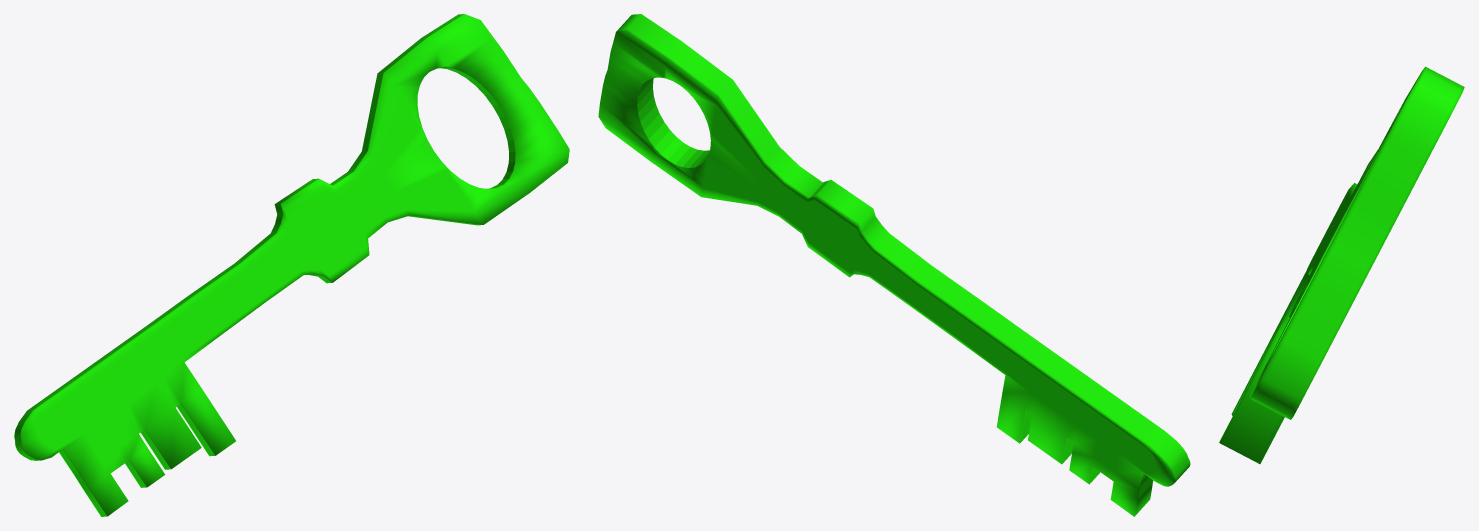
File: KeyGreen.fbx
The picture shows the model from 3 angles, left to right: view 1: azimuth 30°, elevation 25°; view 2: azimuth 150°, elevation 25°; view 3: azimuth 270°, elevation 25°; orthographic projection. The views are drawn at different scales.
Parts seen in each view (by area): view 1: KeyGreen; view 2: KeyGreen; view 3: KeyGreen.
Boxes of the visible parts, x1,y1,x2,y2 form: KeyGreen: [14, 14, 569, 516]; KeyGreen: [598, 14, 1190, 516]; KeyGreen: [1219, 66, 1464, 463].
Size of the model in its own units: 43.72 by 29.53 by 8.7.
